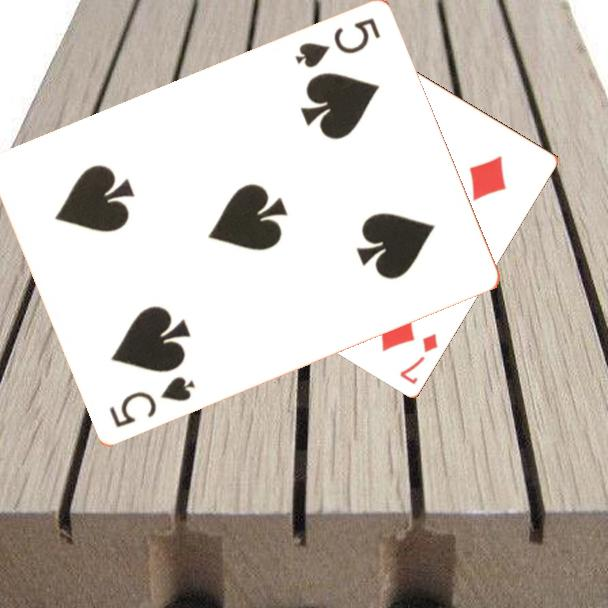d07: (396, 329, 441, 387)
s05: (105, 373, 198, 431), (291, 15, 383, 72)
